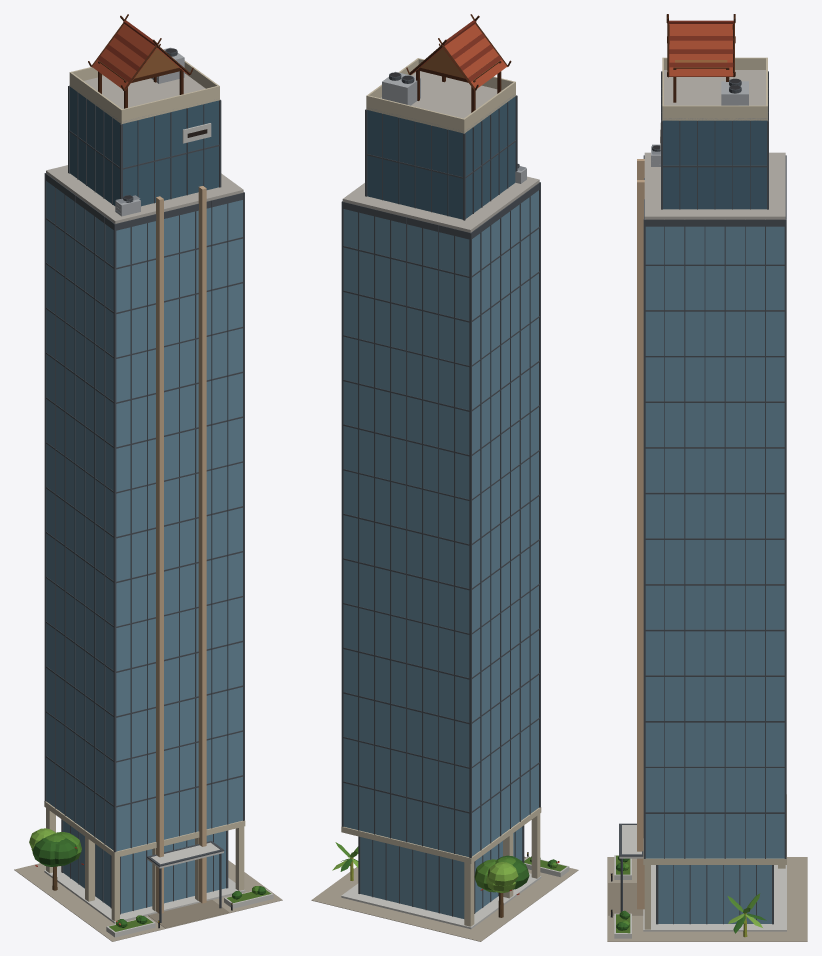
File: shop_4.glb
3 renders of one model, left to right at view 1: azimuth 30°, elevation 25°; view 2: azimuth 150°, elevation 25°; view 3: azimuth 270°, elevation 25°, orthographic. The views are drawn at different scales.
Parts seen in each view (by area): view 1: body; view 2: body; view 3: body.
Part boxes in pixels (x1,y1,x2,y2): body: (14, 14, 282, 941); body: (311, 14, 578, 941); body: (607, 14, 807, 941).
Size of the model in its own units: 17.71 by 77.03 by 15.9.
